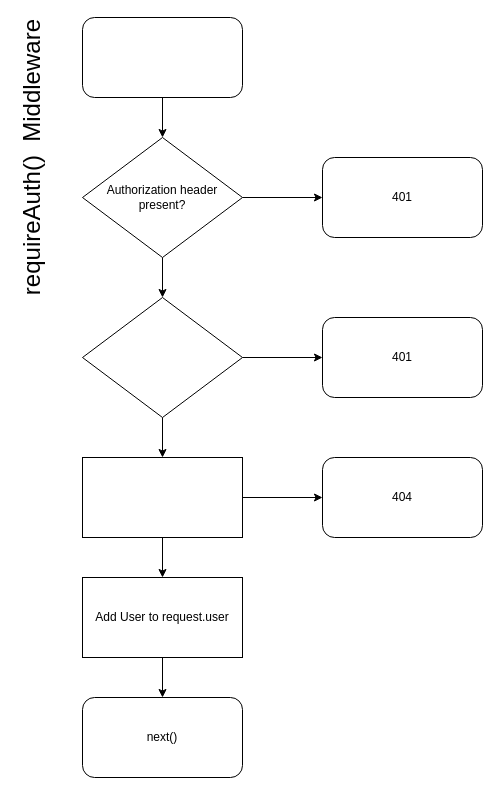
This 500x795 diagram has some shape labels left out. Here are the shapes that lost their labels. From the top down, the box of each, then its label:
(82, 16, 242, 98): Client Request
(82, 296, 242, 418): JWT verifies?
(82, 456, 242, 538): User.findById
